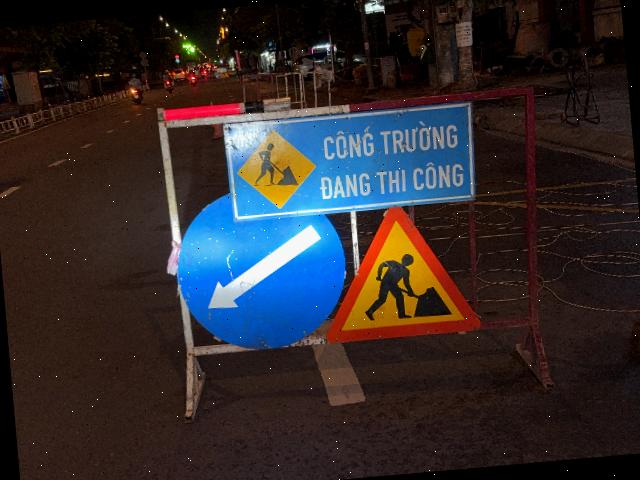cong-truong-dang-thi-cong: (316, 200, 482, 344)
huong-phai-di-vong-chuong-ngai-vat: (170, 181, 352, 357)
